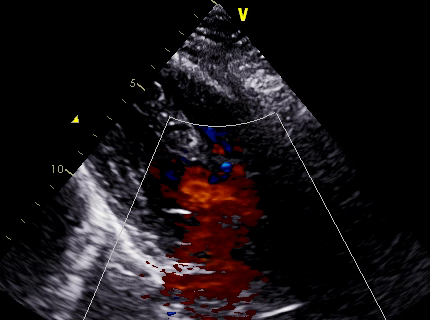AR: (173, 161, 260, 216)
